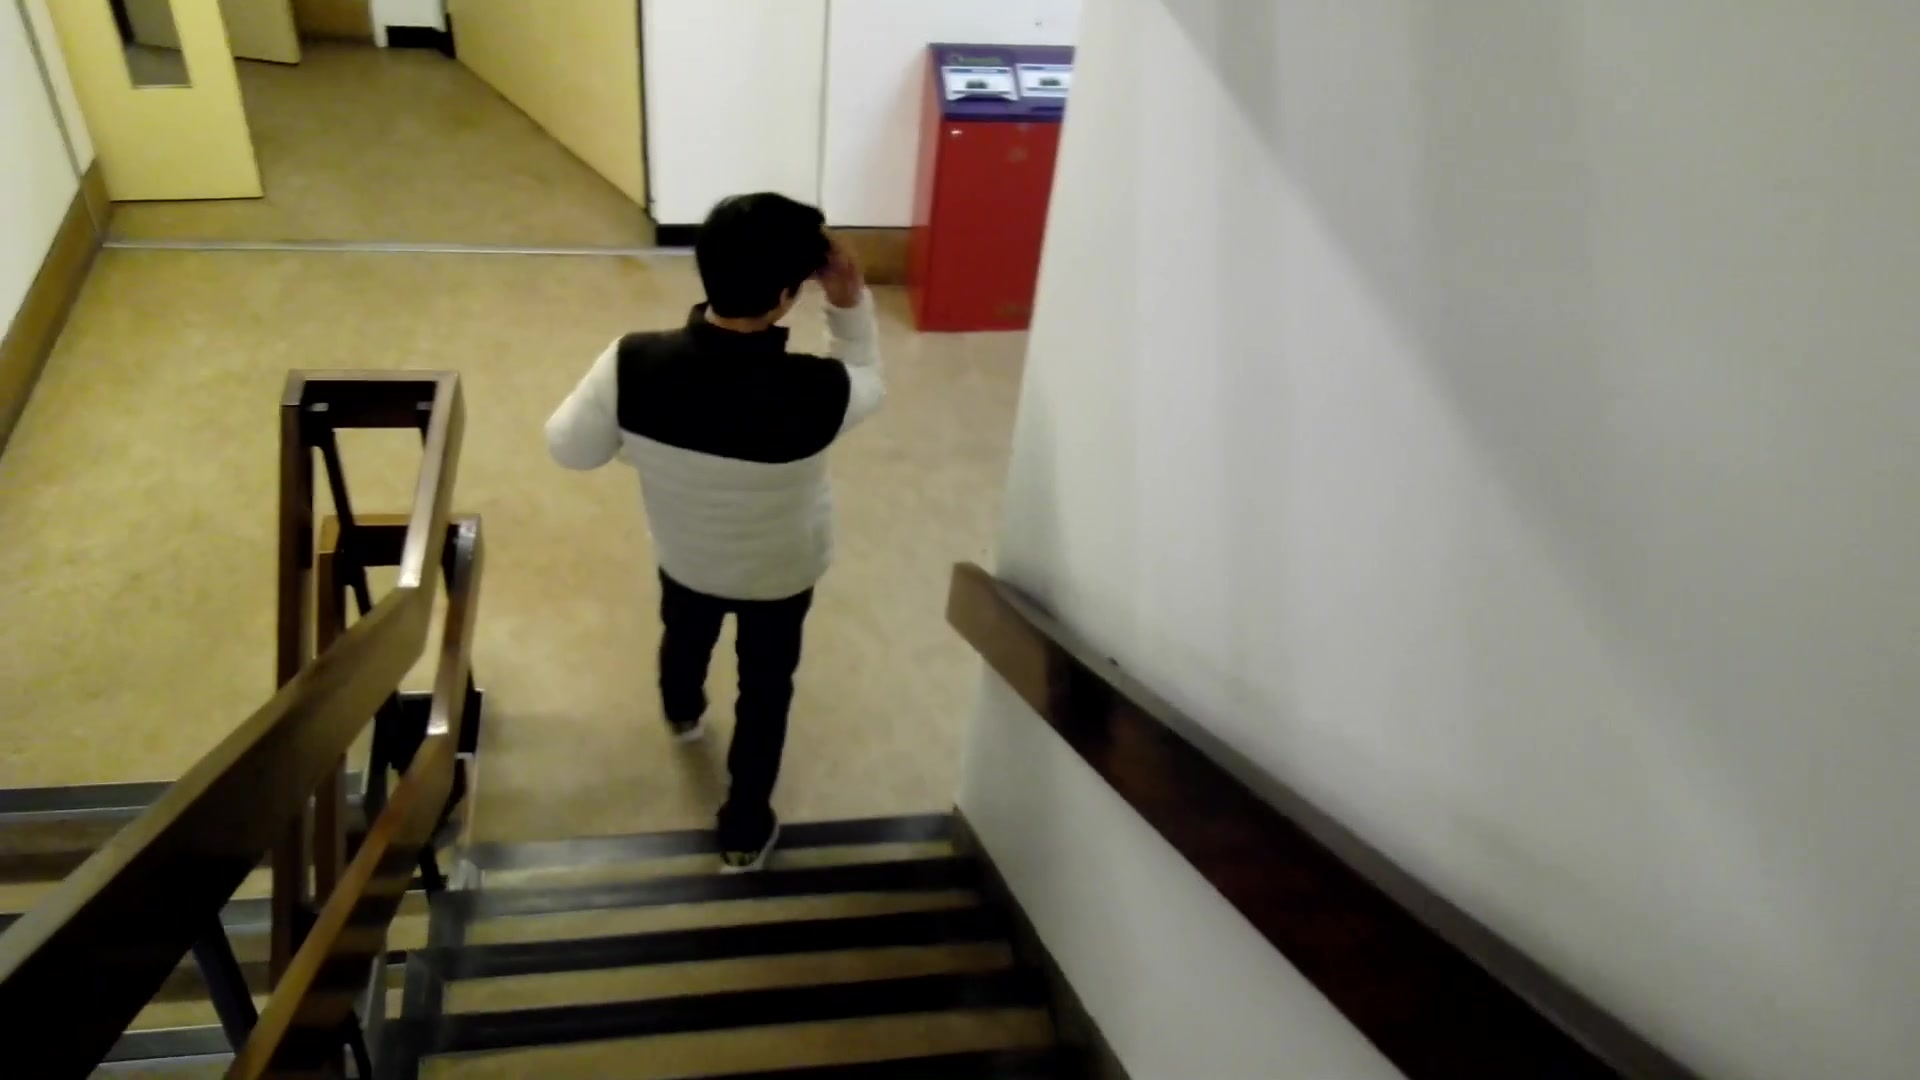Person: (597, 186, 877, 845)
Stairs: (422, 810, 1032, 1080)
